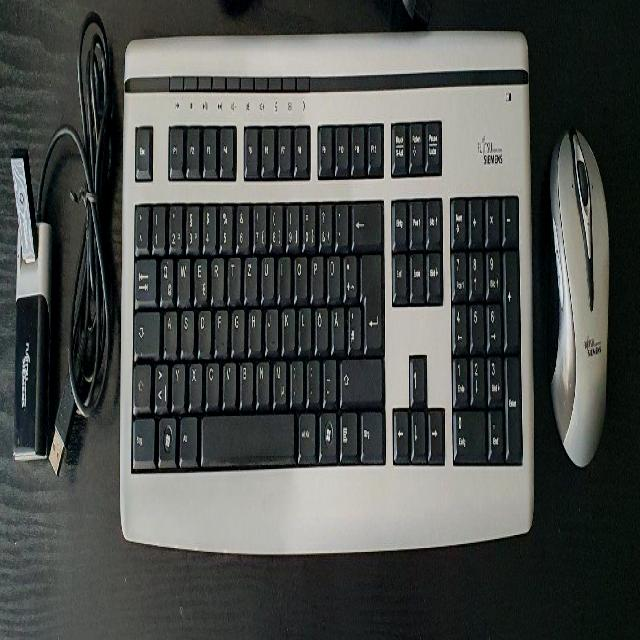0: (301, 199, 315, 249)
1: (151, 200, 165, 250)
2: (168, 198, 182, 250)
3: (185, 200, 199, 250)
4: (202, 200, 216, 250)
5: (218, 198, 232, 250)
6: (235, 199, 249, 249)
7: (252, 199, 266, 249)
8: (269, 199, 283, 249)
9: (285, 199, 299, 249)
a: (162, 306, 176, 354)
accent: (334, 197, 348, 246)
ae: (331, 302, 344, 350)
alt-left: (178, 411, 196, 461)
altgr-right: (297, 408, 315, 457)
b: (238, 356, 252, 404)
c: (205, 358, 219, 404)
caret: (134, 200, 148, 249)
comma: (289, 357, 303, 403)
d: (197, 306, 211, 354)
del: (350, 196, 382, 245)
e: (193, 253, 207, 302)
enter: (359, 246, 381, 350)
f: (214, 305, 227, 353)
g: (230, 303, 244, 351)
h: (247, 305, 261, 351)
hash: (347, 301, 360, 350)
i: (277, 253, 289, 299)
j: (264, 303, 278, 351)
k: (281, 303, 294, 351)
keyboard: (116, 26, 536, 562)
l: (297, 302, 310, 350)
less: (153, 358, 167, 407)
m: (273, 356, 286, 404)
minus: (323, 356, 336, 402)
n: (255, 357, 269, 403)
o: (293, 253, 306, 299)
oe: (314, 302, 328, 351)
p: (310, 252, 323, 298)
plus: (342, 249, 356, 299)
point: (306, 356, 319, 402)
q: (159, 253, 173, 302)
r: (210, 253, 223, 301)
s: (179, 305, 193, 354)
shift-left: (132, 359, 150, 407)
shift-lock: (133, 305, 159, 355)
shift-right: (340, 354, 382, 400)
space: (200, 410, 294, 462)
ss: (318, 197, 332, 247)
strg-left: (131, 411, 154, 464)
strg-right: (359, 407, 383, 460)
t: (226, 253, 240, 301)
tab: (134, 254, 156, 302)
u: (260, 253, 273, 299)
ue: (326, 250, 340, 298)
v: (222, 356, 235, 404)
w: (176, 253, 190, 302)
x: (188, 358, 202, 404)
y: (171, 359, 184, 407)
z: (243, 252, 257, 300)
